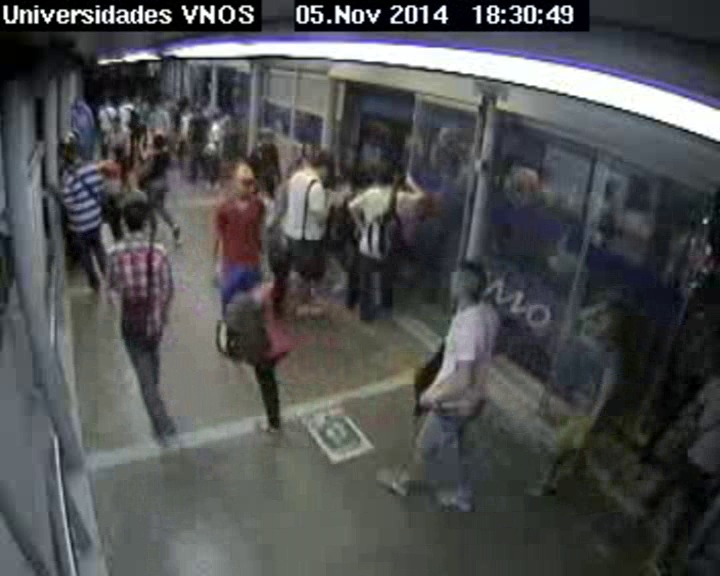person: (448, 261, 487, 303), (598, 302, 631, 339), (122, 200, 151, 233), (266, 247, 295, 280), (232, 165, 259, 198), (310, 156, 336, 182), (258, 142, 279, 164), (374, 163, 395, 185), (60, 138, 79, 160), (112, 142, 128, 160), (128, 111, 141, 125), (152, 135, 165, 149), (109, 117, 121, 130), (140, 99, 151, 112), (198, 95, 208, 107), (152, 101, 162, 112), (181, 103, 191, 113), (104, 98, 113, 108), (193, 108, 202, 118), (209, 112, 218, 122), (216, 105, 225, 115), (123, 94, 131, 103)
